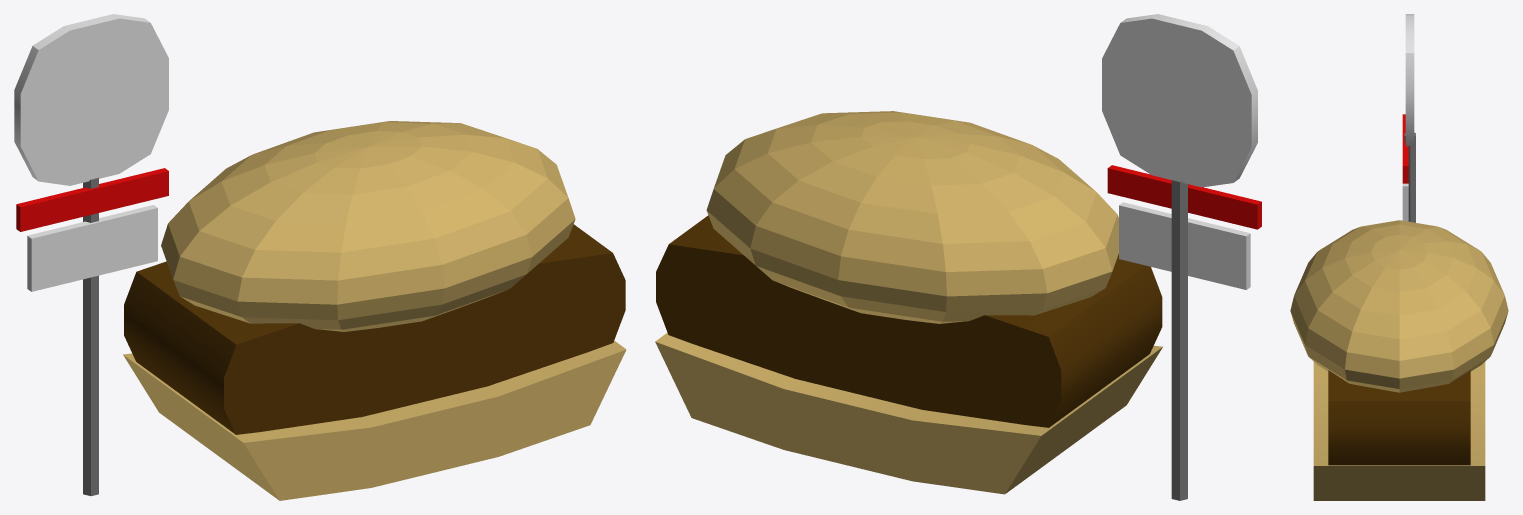
The model's file is BurgerTime.fbx.
3 views of the same model, side by side, from view 1: azimuth 30°, elevation 25°; view 2: azimuth 150°, elevation 25°; view 3: azimuth 270°, elevation 25° (orthographic). The views are drawn at different scales.
Parts seen in each view (by area): view 1: BurgerBuilding, Sign; view 2: BurgerBuilding, Sign; view 3: BurgerBuilding, Sign.
Boxes of the visible parts, x1,y1,x2,y2 form: BurgerBuilding: (123,121,626,500); Sign: (14,14,168,495); BurgerBuilding: (655,111,1162,494); Sign: (1102,14,1261,500); BurgerBuilding: (1290,220,1508,500); Sign: (1402,14,1415,222).
Size of the model in its own units: 22.24 by 18.08 by 10.69.
